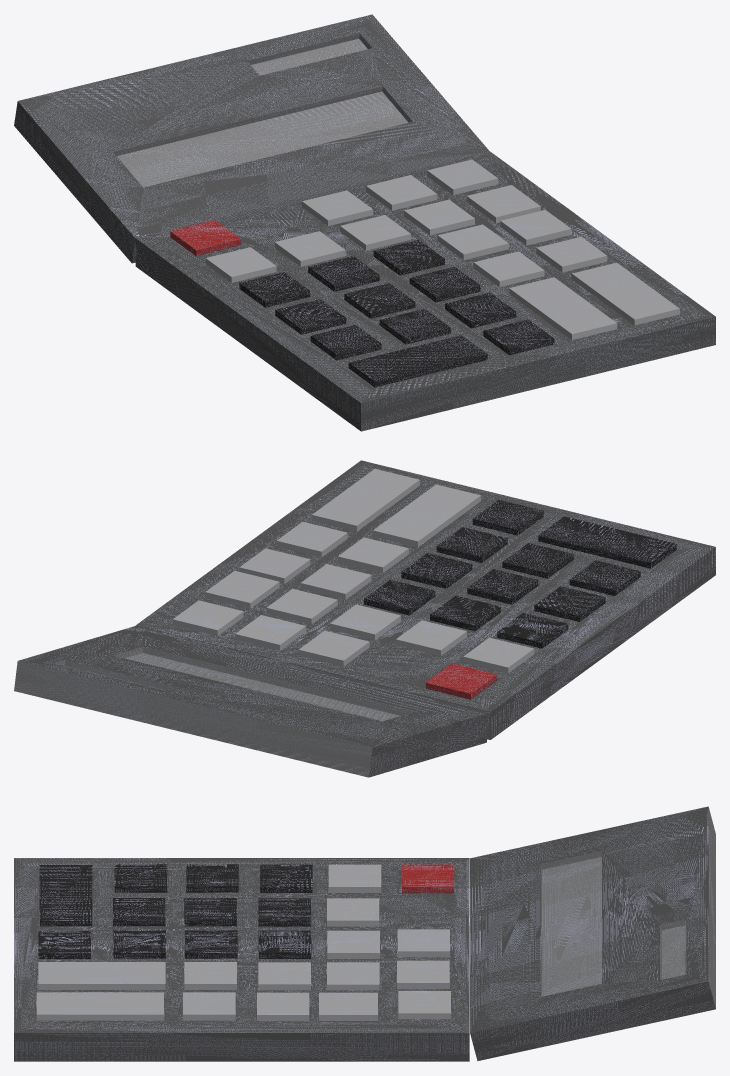
File: calculator.dae
The picture shows the model from 3 angles, top to bottom: view 1: azimuth 30°, elevation 25°; view 2: azimuth 150°, elevation 25°; view 3: azimuth 270°, elevation 25°; orthographic projection.
Visible parts, largest first — view 1: SketchUp (×30); view 2: SketchUp (×32); view 3: SketchUp (×31).
Part boxes in pixels (box(x1,y1,x2,y2)): SketchUp (×30): box(14, 14, 715, 431); SketchUp (×32): box(14, 460, 715, 777); SketchUp (×31): box(14, 806, 715, 1061).
Bounding box in the file's own units: 3.94 × 6.67 × 0.8393.
